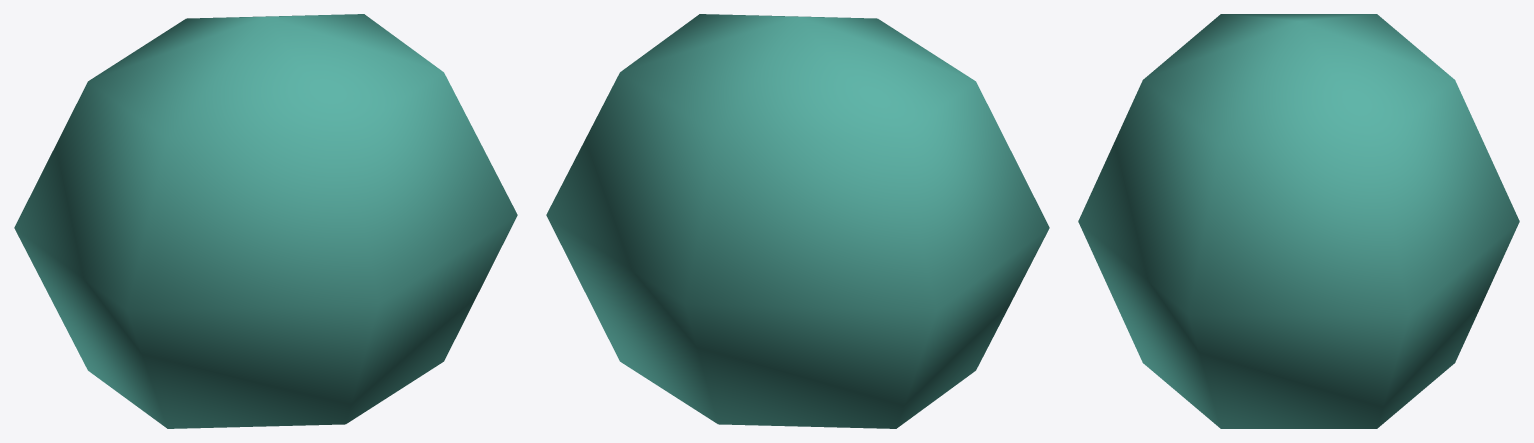
Rendered from lantern_spore.glb.
The picture shows the model from 3 angles, left to right: view 1: azimuth 30°, elevation 25°; view 2: azimuth 150°, elevation 25°; view 3: azimuth 270°, elevation 25°; orthographic projection. The views are drawn at different scales.
Parts seen in each view (by area): view 1: lantern_spore; view 2: lantern_spore; view 3: lantern_spore.
Part boxes in pixels (bbox=[...]): lantern_spore: bbox=[14, 14, 517, 428]; lantern_spore: bbox=[546, 14, 1049, 428]; lantern_spore: bbox=[1078, 14, 1519, 428].
Bounding box in the file's own units: 0.001 × 0.001 × 0.001.
